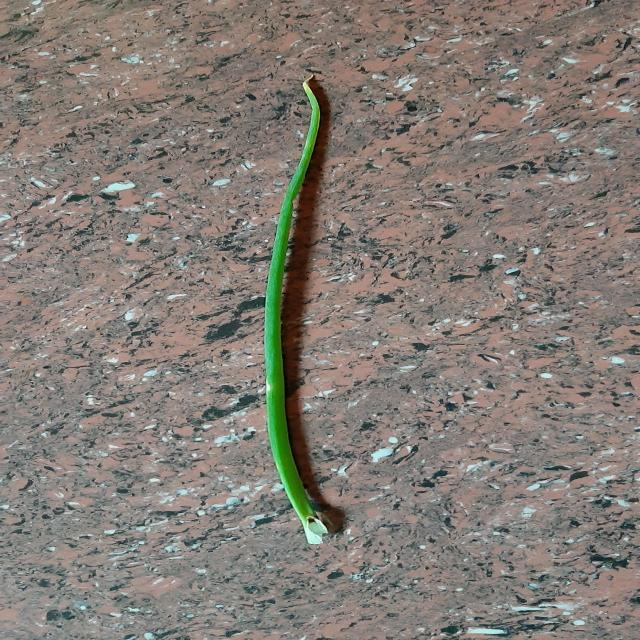onion: (263, 76, 331, 544)
